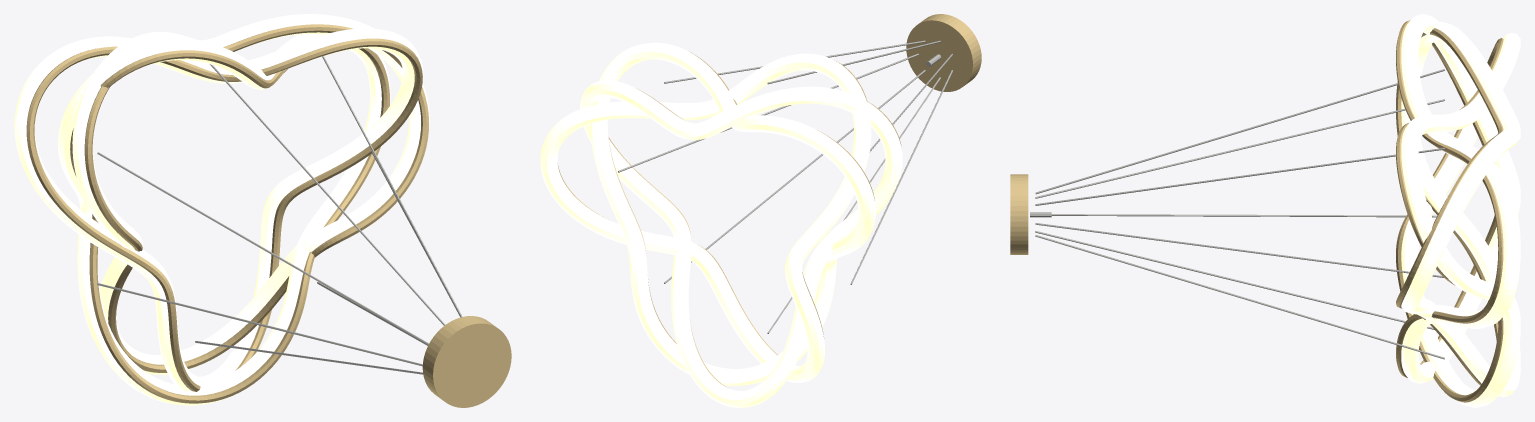
File: luren.glb
3 views of the same model, side by side, from view 1: azimuth 30°, elevation 25°; view 2: azimuth 150°, elevation 25°; view 3: azimuth 270°, elevation 25° (orthographic). The views are drawn at different scales.
Parts seen in each view (by area): view 1: Luren_LED_wave_0, Luren_LED_wave_2, Luren_LED_wave_1, Luren_gold_rim_0, Luren_gold_rim_2, Luren_gold_rim_1, Ceiling_Canopy, Suspension_269, Suspension_359, Suspension_179, Suspension_89, Suspension_448; view 2: Luren_LED_wave_2, Luren_LED_wave_1, Luren_LED_wave_0, Ceiling_Canopy, Suspension_538, Suspension_359, Suspension_0, Suspension_89, Luren_gold_rim_2, Luren_gold_rim_0; view 3: Luren_LED_wave_1, Luren_LED_wave_0, Luren_LED_wave_2, Luren_gold_rim_2, Luren_gold_rim_0, Luren_gold_rim_1, Ceiling_Canopy, Suspension_538, Suspension_179, Suspension_269, Suspension_0, Suspension_89 (+2 smaller).
Boxes of the visible parts, x1,y1,x2,y2 form: Luren_LED_wave_0: [14, 28, 423, 391]; Luren_LED_wave_2: [57, 34, 390, 405]; Luren_LED_wave_1: [72, 14, 429, 374]; Luren_gold_rim_0: [26, 38, 422, 391]; Luren_gold_rim_2: [70, 48, 389, 403]; Luren_gold_rim_1: [84, 24, 428, 372]; Ceiling_Canopy: [422, 316, 511, 407]; Suspension_269: [97, 152, 428, 344]; Suspension_359: [97, 283, 422, 366]; Suspension_179: [209, 64, 445, 325]; Suspension_89: [322, 56, 462, 317]; Suspension_448: [195, 341, 423, 374]; Luren_LED_wave_2: [540, 53, 871, 382]; Luren_LED_wave_1: [580, 80, 902, 407]; Luren_LED_wave_0: [590, 42, 875, 385]; Ceiling_Canopy: [906, 14, 981, 91]; Suspension_538: [664, 70, 925, 283]; Suspension_359: [850, 70, 952, 284]; Suspension_0: [618, 53, 918, 172]; Suspension_89: [664, 40, 925, 83]; Luren_gold_rim_2: [557, 60, 867, 355]; Luren_gold_rim_0: [608, 52, 874, 343]; Luren_LED_wave_1: [1401, 21, 1520, 397]; Luren_LED_wave_0: [1401, 32, 1520, 407]; Luren_LED_wave_2: [1401, 14, 1520, 383]; Luren_gold_rim_2: [1396, 20, 1503, 377]; Luren_gold_rim_0: [1396, 38, 1503, 402]; Luren_gold_rim_1: [1396, 28, 1503, 385]; Ceiling_Canopy: [1010, 174, 1028, 254]; Suspension_538: [1035, 235, 1444, 359]; Suspension_179: [1035, 69, 1444, 194]; Suspension_269: [1035, 99, 1444, 198]; Suspension_0: [1035, 223, 1443, 277]; Suspension_89: [1035, 148, 1444, 205].
Size of the model in its own units: 1.45 by 1.41 by 1.9.
